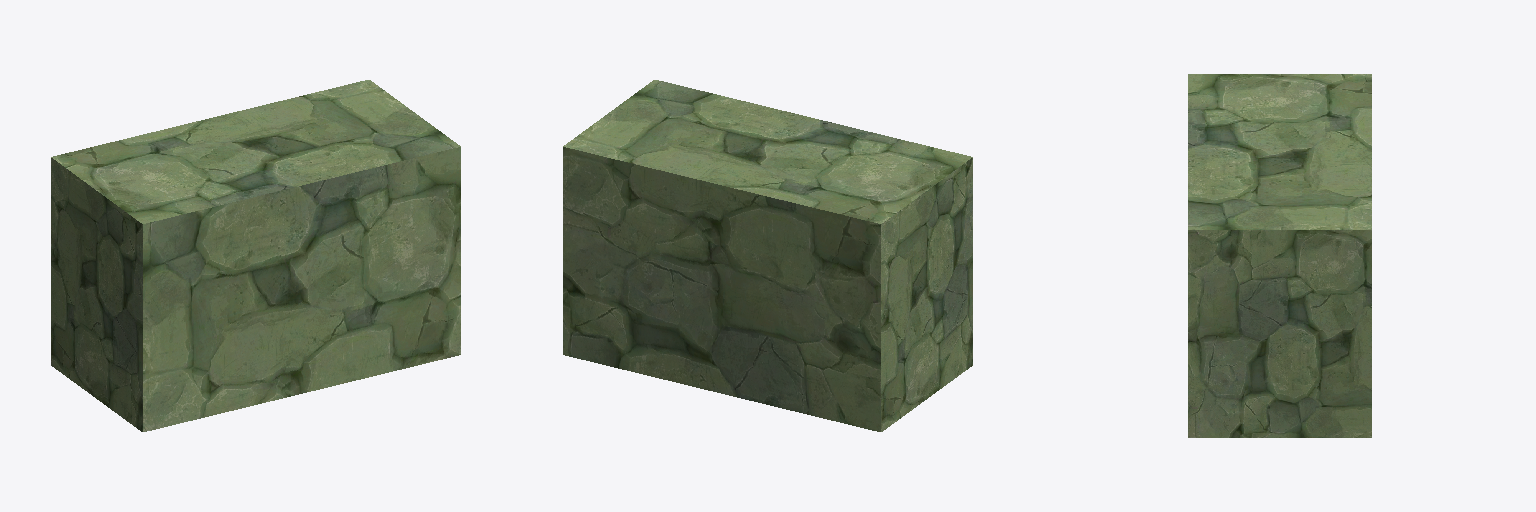
3 renders of one model, left to right at view 1: azimuth 30°, elevation 25°; view 2: azimuth 150°, elevation 25°; view 3: azimuth 270°, elevation 25°, orthographic.
Visible parts, largest first — view 1: Dn_HL_Ruins_Wall_2_5Mx4Mx2M_A007; view 2: Dn_HL_Ruins_Wall_2_5Mx4Mx2M_A007; view 3: Dn_HL_Ruins_Wall_2_5Mx4Mx2M_A007.
Boxes of the visible parts, <box> form: Dn_HL_Ruins_Wall_2_5Mx4Mx2M_A007: <box>51,80,460,431</box>; Dn_HL_Ruins_Wall_2_5Mx4Mx2M_A007: <box>563,80,972,431</box>; Dn_HL_Ruins_Wall_2_5Mx4Mx2M_A007: <box>1188,74,1371,437</box>.
Bounding box in the file's own units: 4 × 2.5 × 2.
Materials: 1 (1 with a texture image).